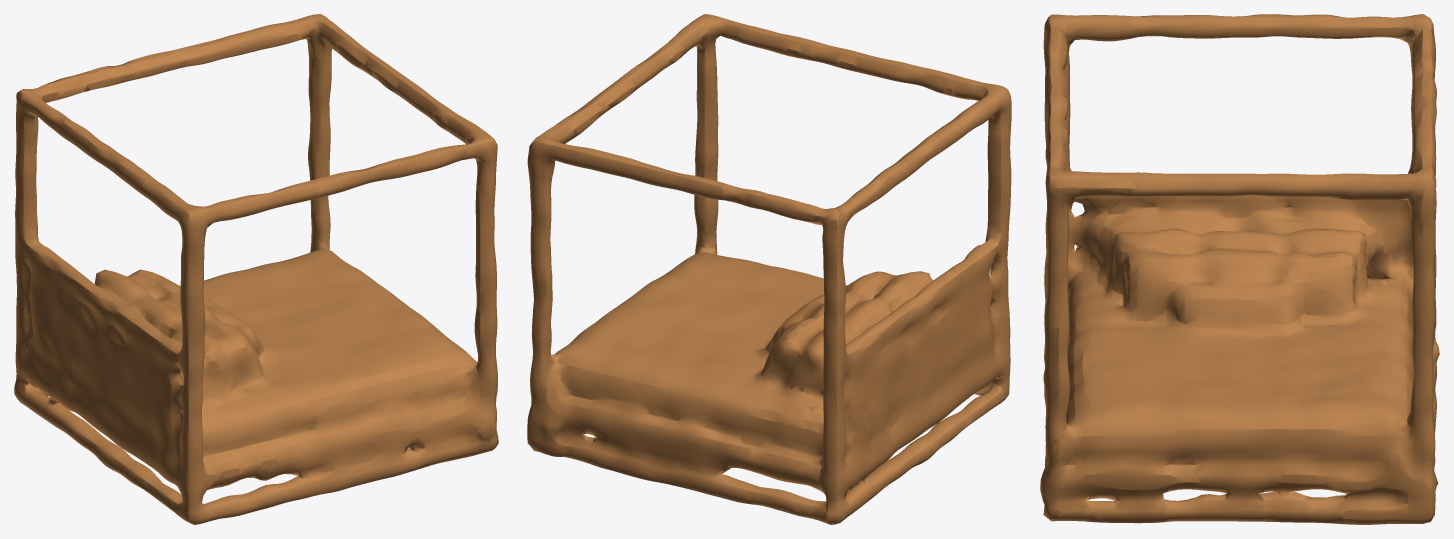
File: bed_1_1.obj
3 renders of one model, left to right at view 1: azimuth 30°, elevation 25°; view 2: azimuth 150°, elevation 25°; view 3: azimuth 270°, elevation 25°, orthographic. The views are drawn at different scales.
Bounding box in the file's own units: 0.7973 × 0.7642 × 0.7887.
